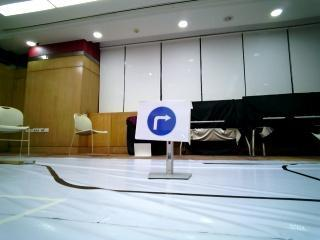right: (137, 98, 192, 143)
